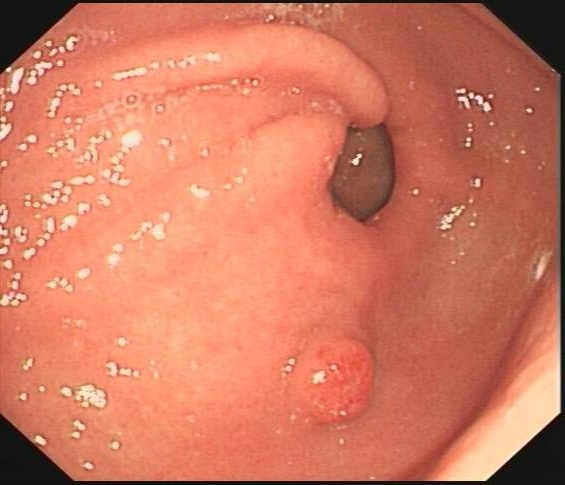Polyp: (257, 310, 408, 448)
